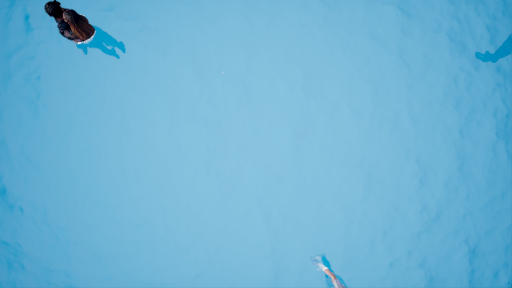person: (37, 1, 132, 63), (303, 230, 360, 288)
